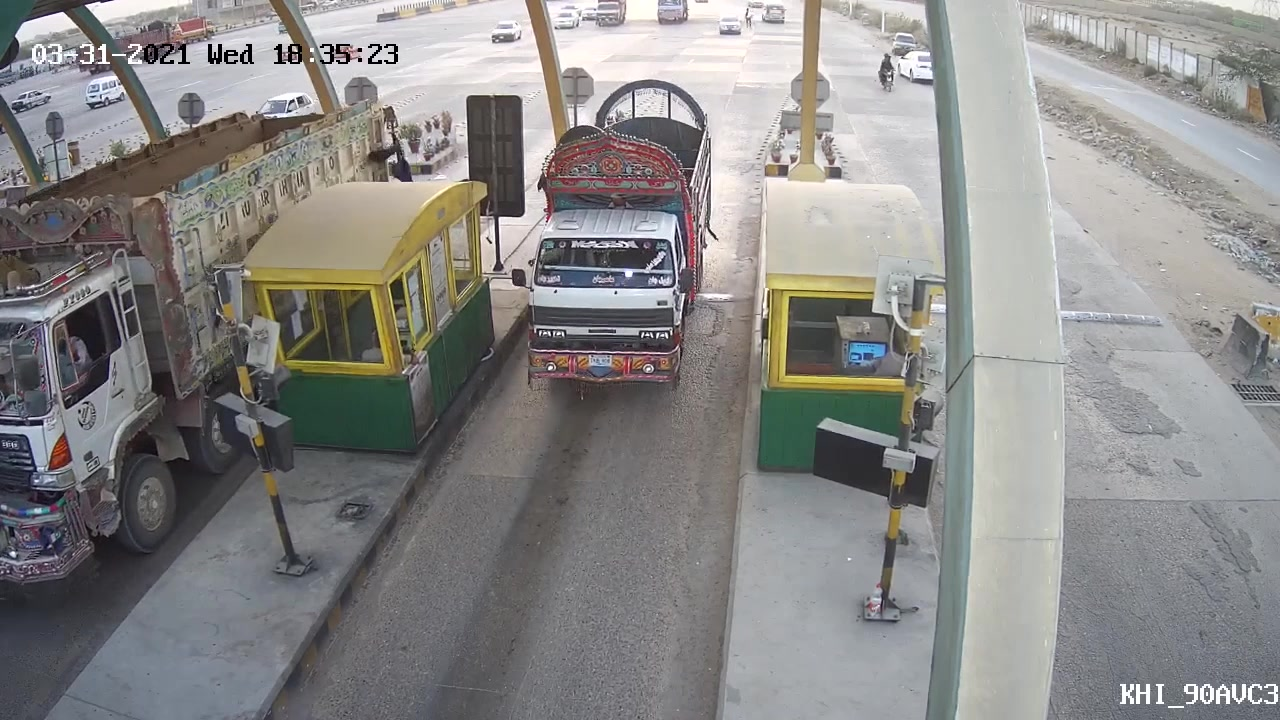F3: (509, 76, 718, 406)
